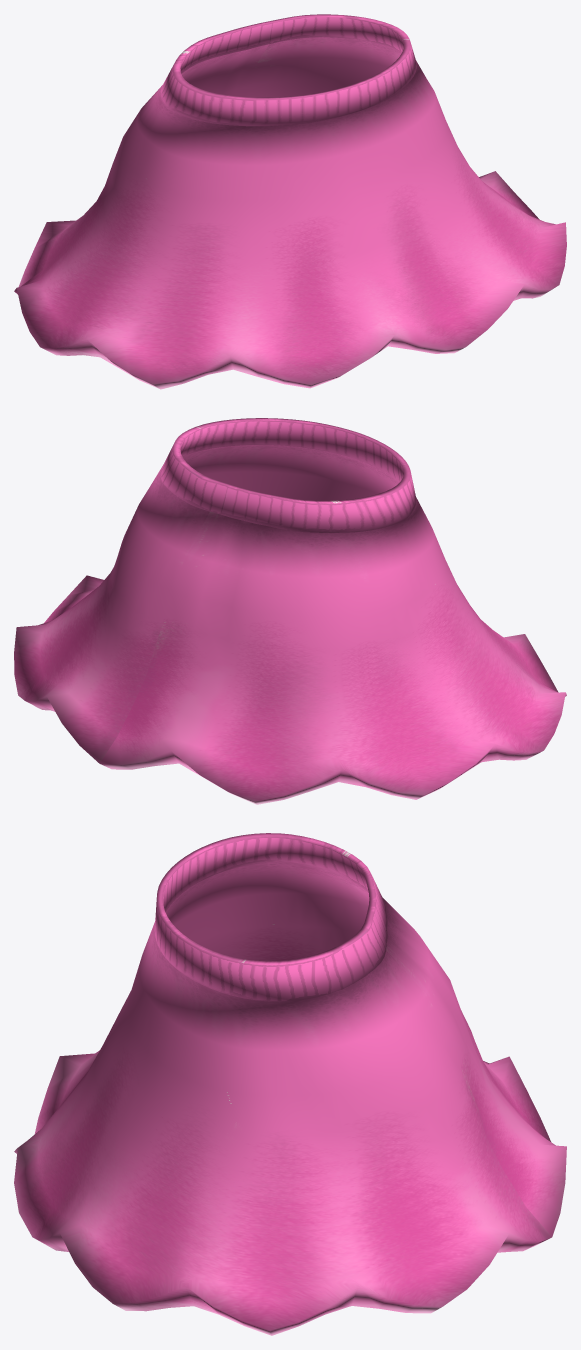
The model's file is skirt.glb.
3 views of the same model, one above another, from view 1: azimuth 30°, elevation 25°; view 2: azimuth 150°, elevation 25°; view 3: azimuth 270°, elevation 25° (orthographic). The views are drawn at different scales.
Visible parts, largest first — view 1: skirt; view 2: skirt; view 3: skirt.
Part boxes in pixels (box(x1,y1,x2,y2)): skirt: box(14, 14, 566, 389); skirt: box(14, 418, 566, 804); skirt: box(14, 833, 566, 1335).
Size of the model in its own units: 0.4571 by 0.2149 by 0.354.
Materials: 1 (1 with a texture image).
